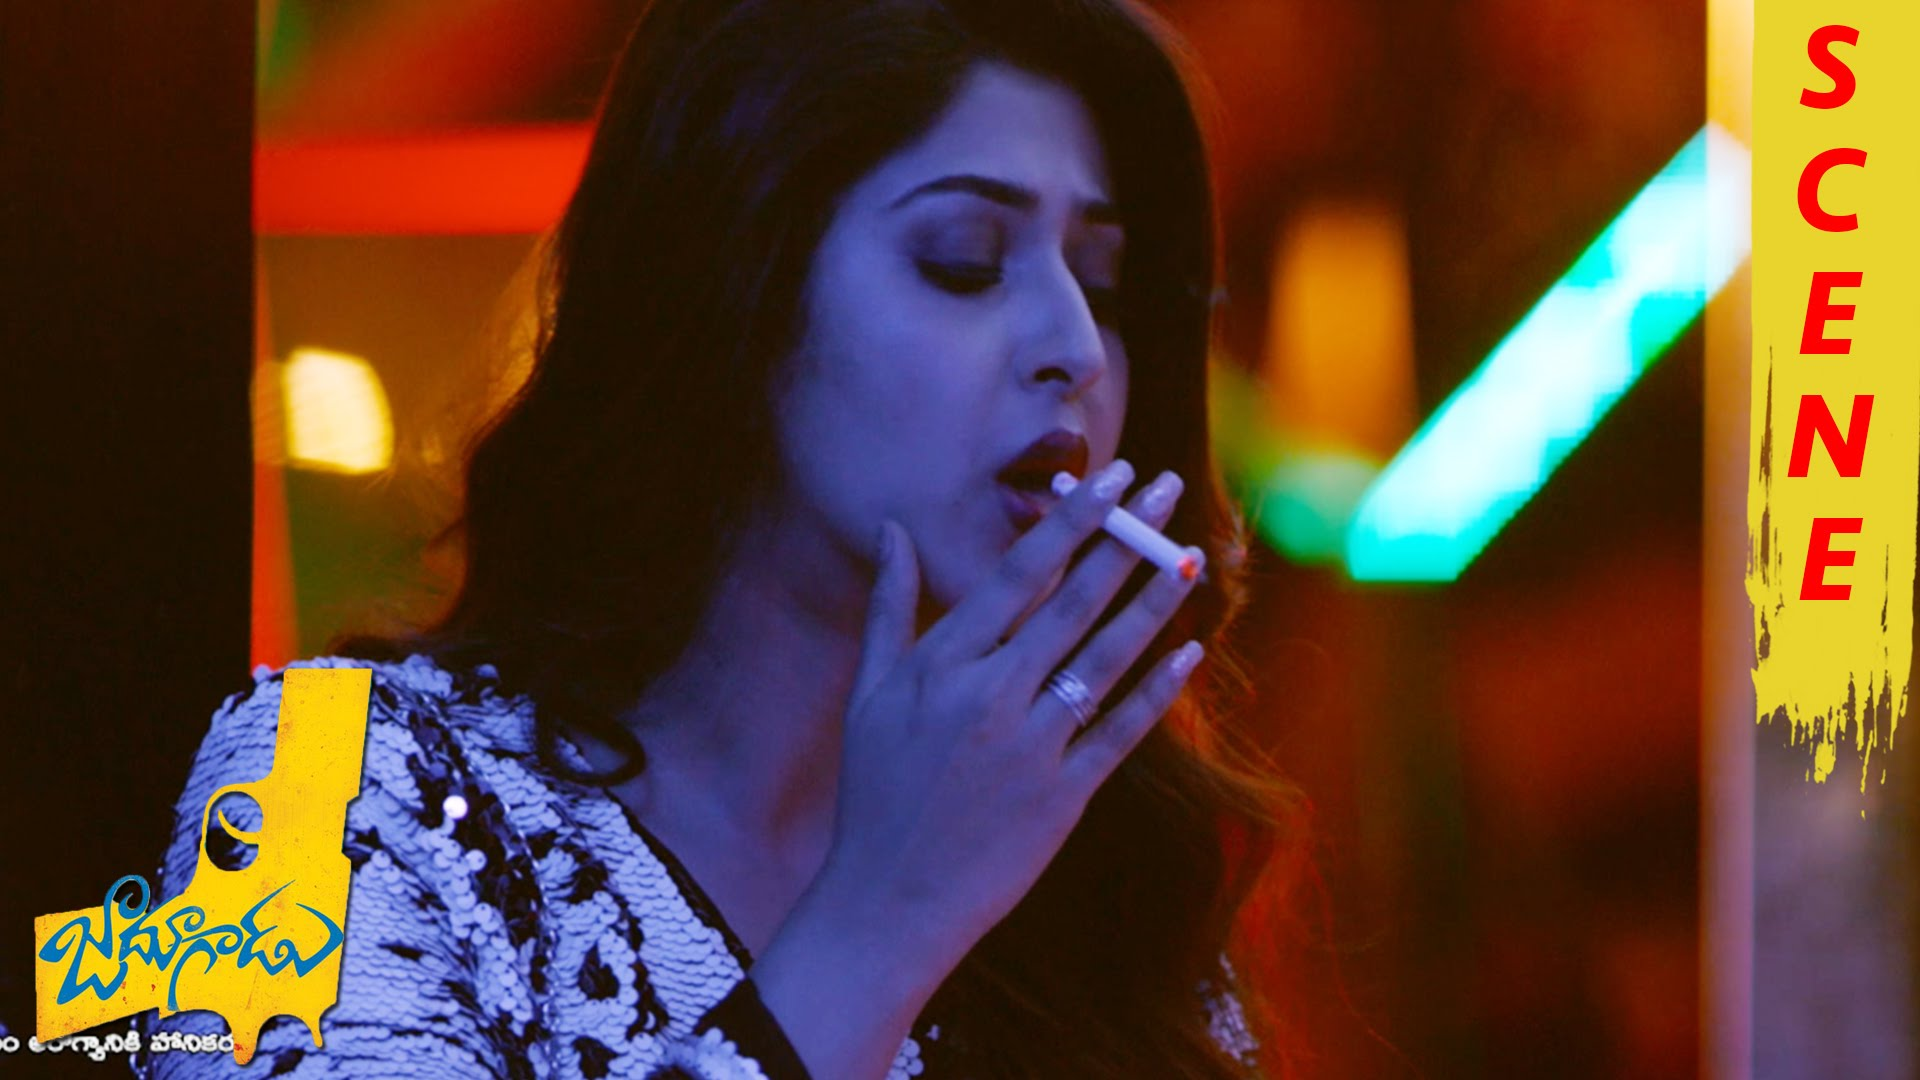cigarette: (1039, 464, 1226, 592)
